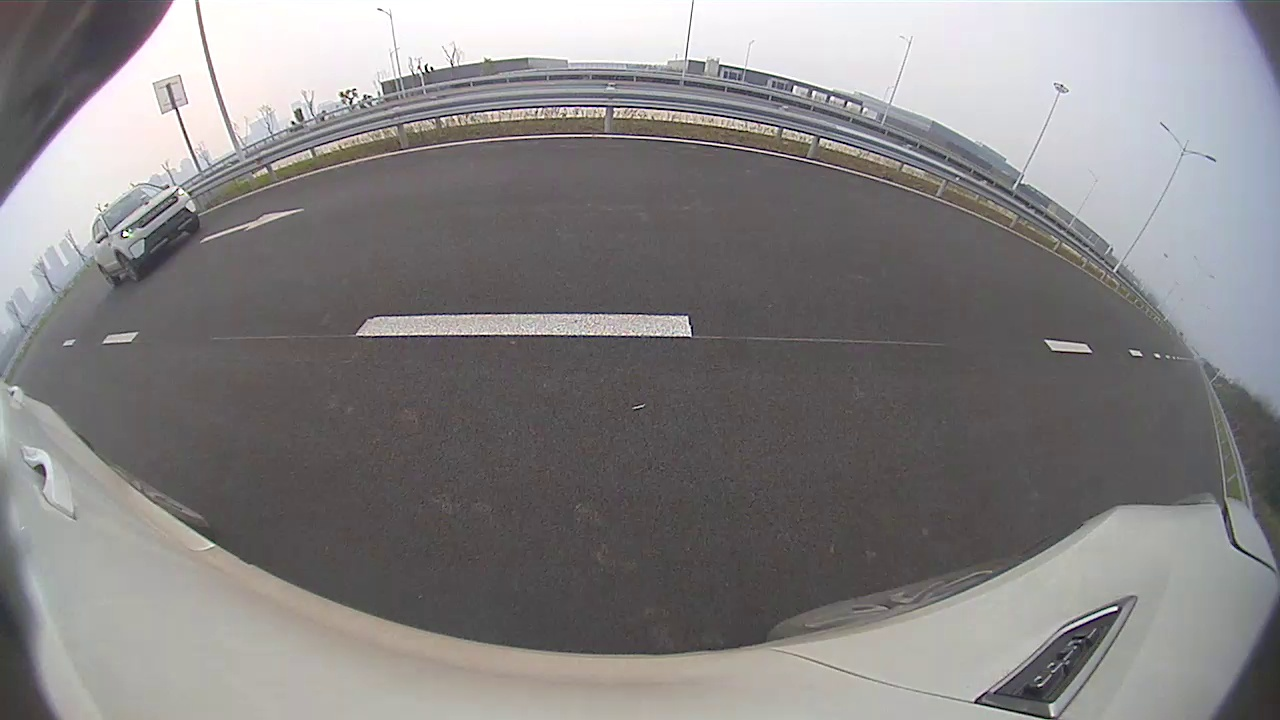car: (92, 183, 200, 287)
front: (114, 253, 141, 287)
